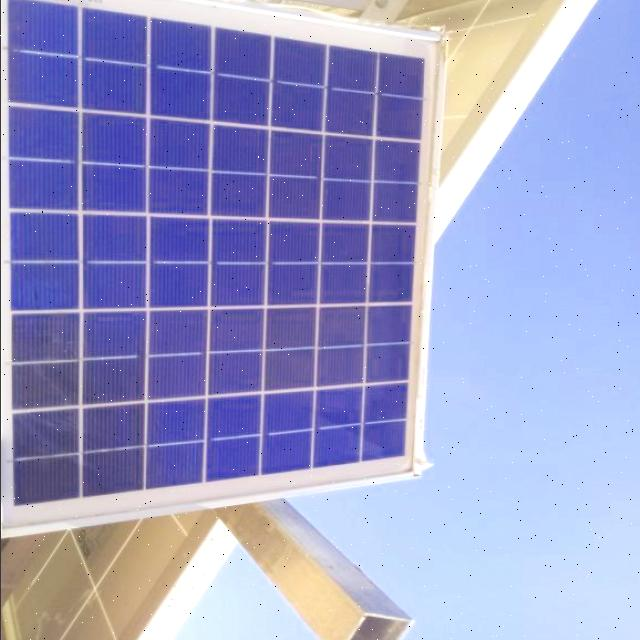Normal Solar Panel: (0, 0, 444, 536)
